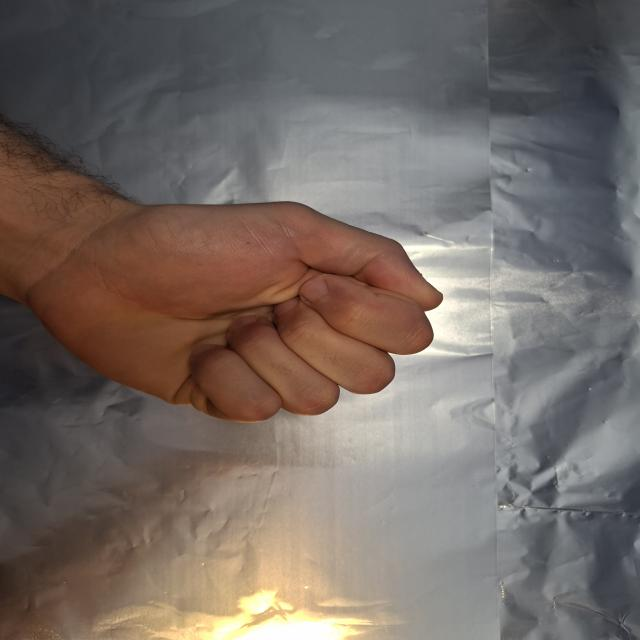glove_off: (19, 178, 444, 427)
